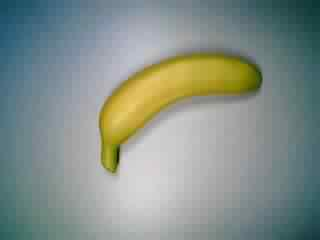banana: (95, 50, 265, 175)
